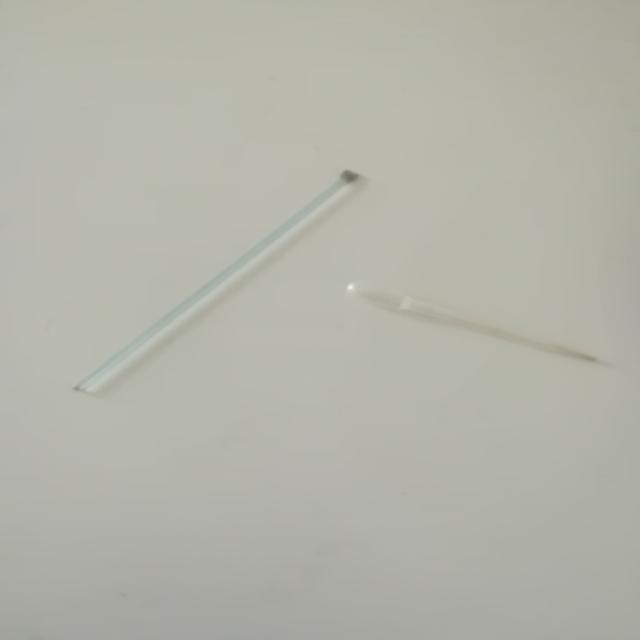Glass_Rod: (0, 152, 383, 440)
Pipette: (332, 256, 618, 398)
